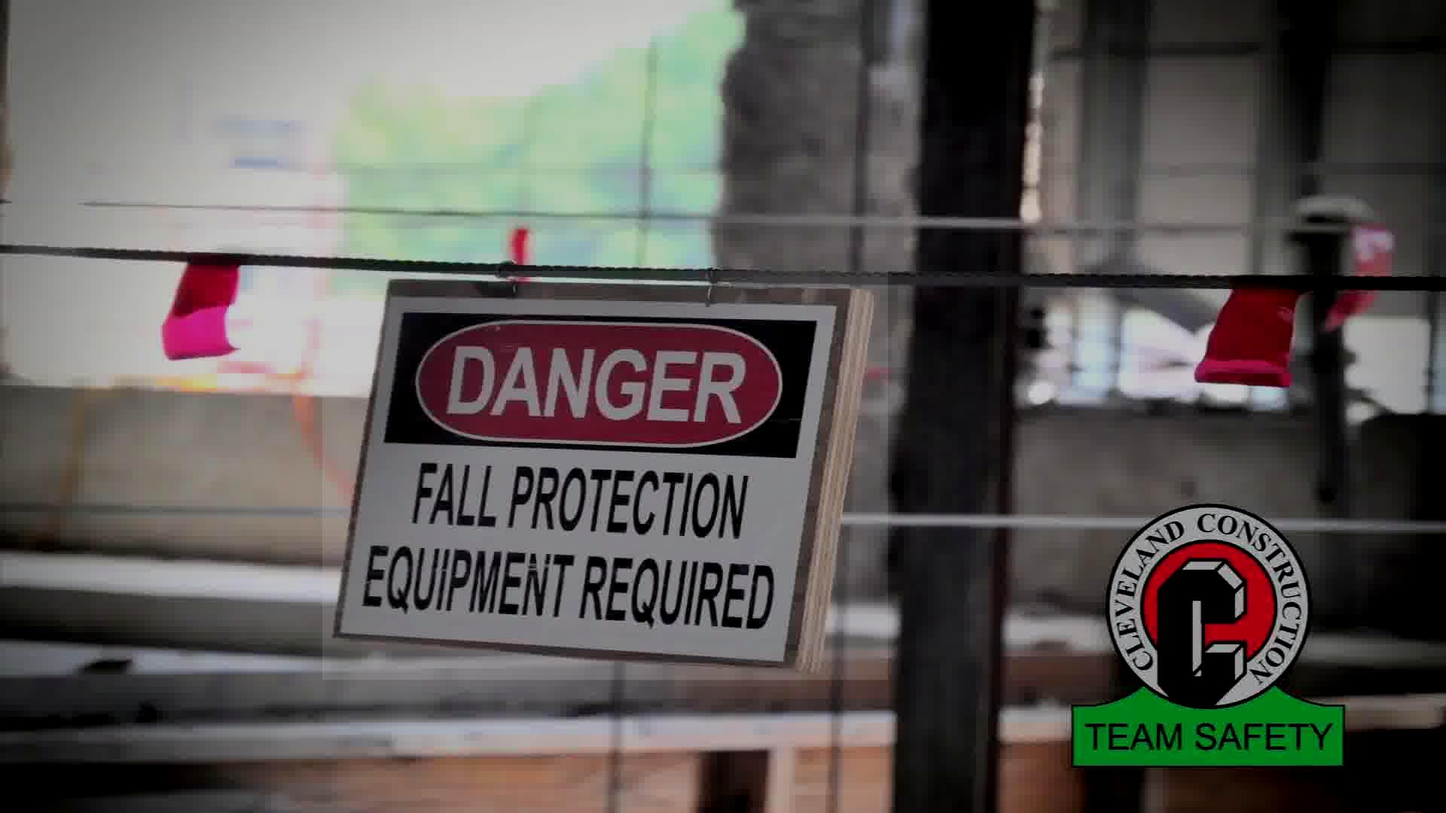safety_signage: (322, 271, 888, 680)
